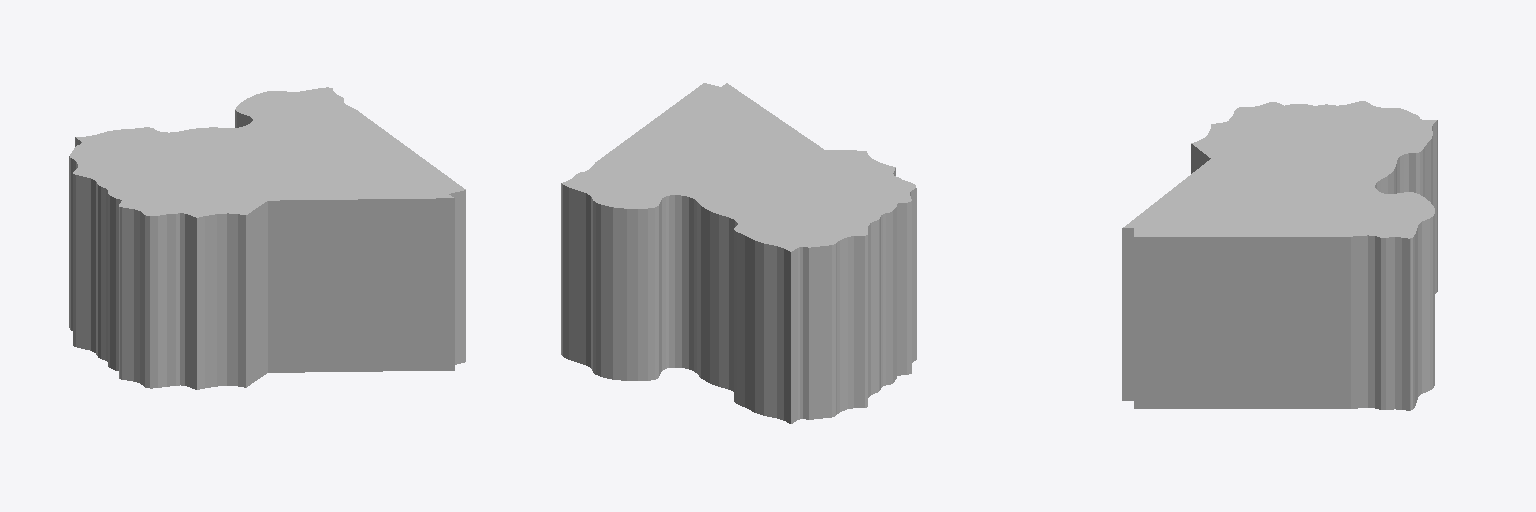
3 views of the same model, side by side, from view 1: azimuth 30°, elevation 25°; view 2: azimuth 150°, elevation 25°; view 3: azimuth 270°, elevation 25° (orthographic).
Parts seen in each view (by area): view 1: LY.002_CUCurve.1871; view 2: LY.002_CUCurve.1871; view 3: LY.002_CUCurve.1871.
Boxes of the visible parts, <box> form: LY.002_CUCurve.1871: <box>69,87,465,389</box>; LY.002_CUCurve.1871: <box>561,83,916,423</box>; LY.002_CUCurve.1871: <box>1122,101,1437,410</box>.
Size of the model in its own units: 0.0859 by 0.05 by 0.0829.